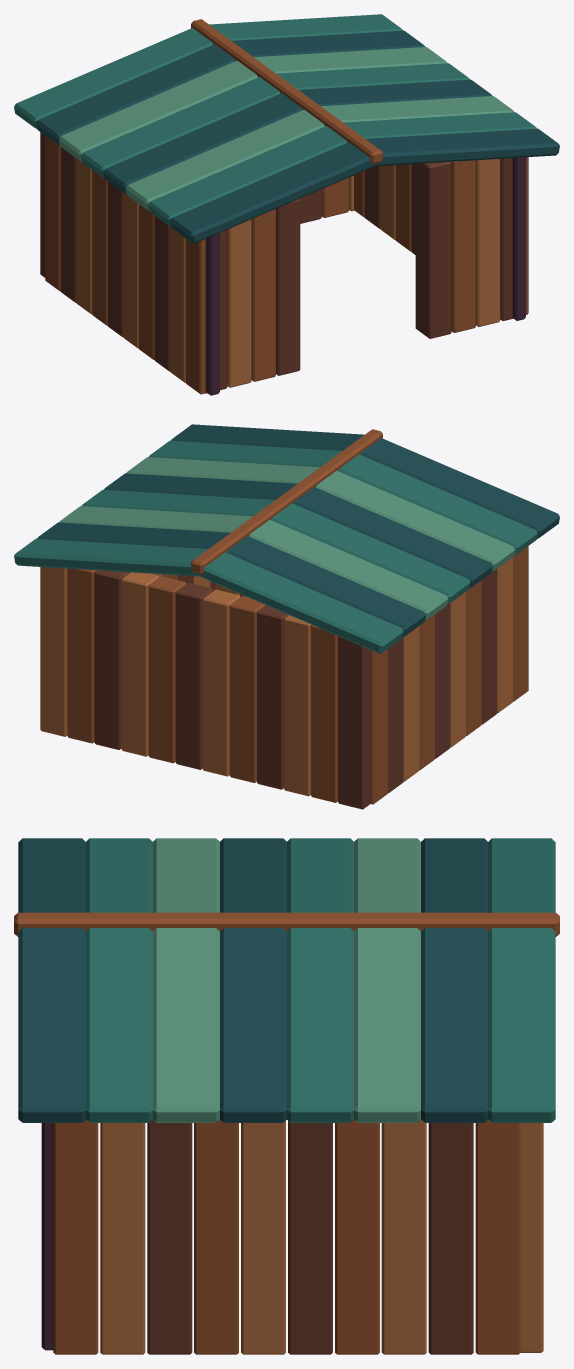
Rendered from grove_shed.glb.
3 renders of one model, top to bottom at view 1: azimuth 30°, elevation 25°; view 2: azimuth 150°, elevation 25°; view 3: azimuth 270°, elevation 25°, orthographic. The views are drawn at different scales.
Visible parts, largest first — view 1: grove_shed; view 2: grove_shed; view 3: grove_shed.
Boxes of the visible parts, x1=… form: grove_shed: x1=14, y1=14, x2=559, y2=395; grove_shed: x1=14, y1=424, x2=559, y2=809; grove_shed: x1=14, y1=838, x2=559, y2=1354.
Size of the model in its own units: 6.7 by 3.69 by 5.7.
